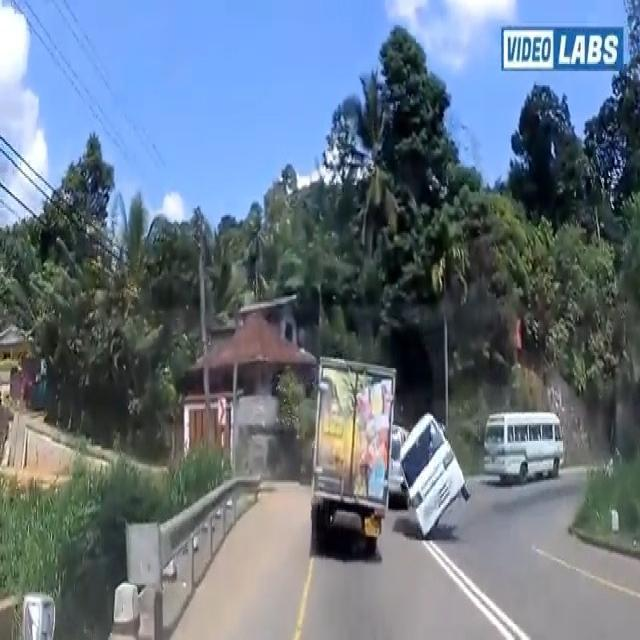multiple_accident: (357, 356, 481, 569)
